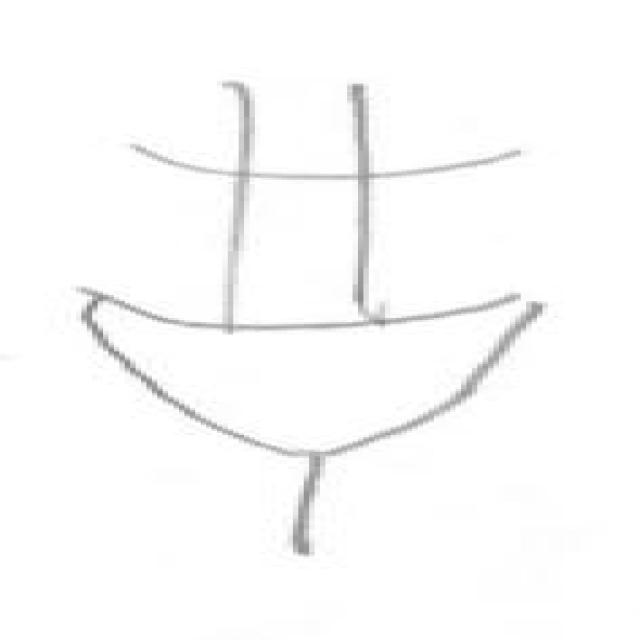XOR: (48, 132, 592, 481)
